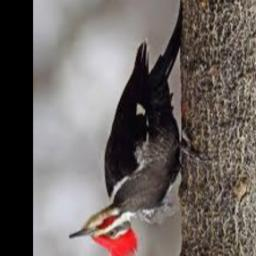Woodpecker: (70, 0, 211, 256)
